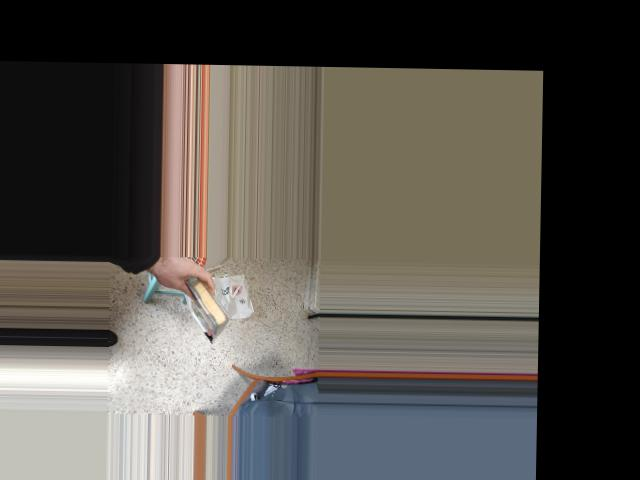cheese: (178, 260, 231, 344)
